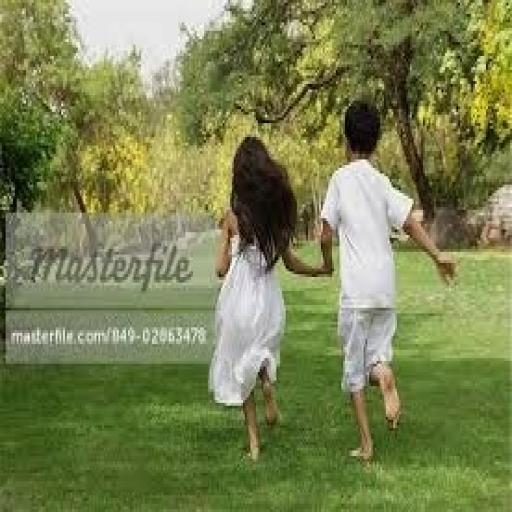running: (317, 95, 460, 465), (206, 132, 334, 464)
